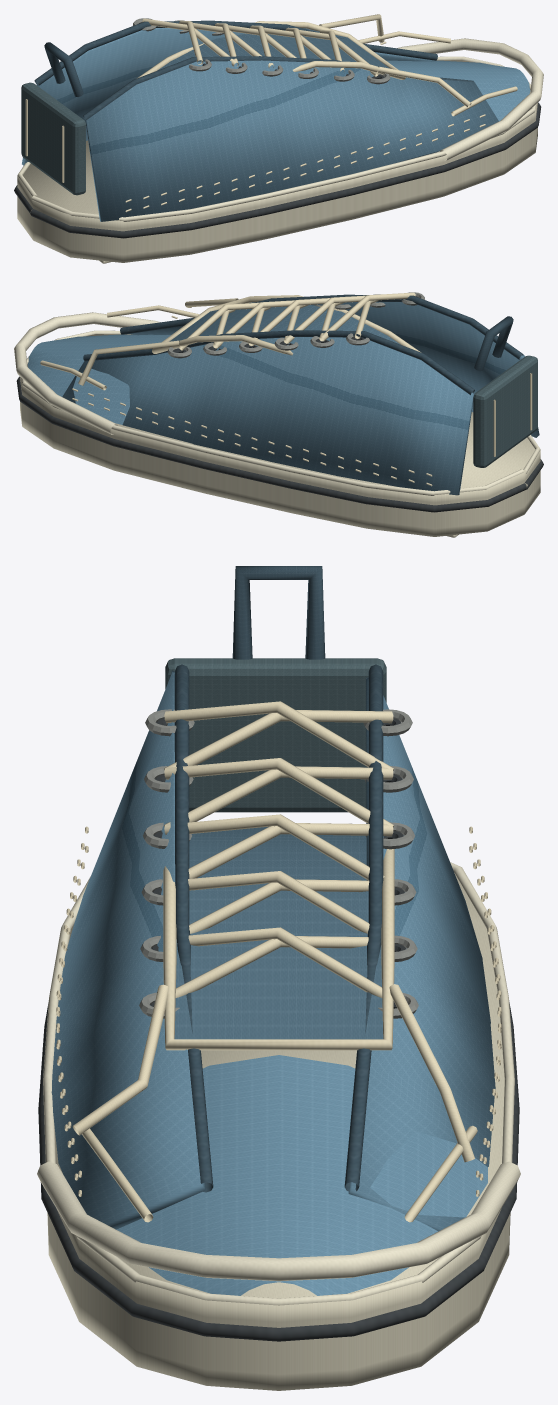
Rendered from canvas_sneaker_v1.glb.
3 renders of one model, top to bottom at view 1: azimuth 30°, elevation 25°; view 2: azimuth 150°, elevation 25°; view 3: azimuth 270°, elevation 25°, orthographic. The views are drawn at different scales.
Parts seen in each view (by area): view 1: Canvas_Main, Rubber_Ivory, Canvas_Lining, Rubber_ToeCap, Canvas_HeelPatch, Cotton_Laces, Rubber_FoxingStripe, Thread_Stitch, Metal_Eyelets; view 2: Canvas_Main, Rubber_Ivory, Canvas_Lining, Rubber_ToeCap, Canvas_HeelPatch, Cotton_Laces, Rubber_FoxingStripe, Thread_Stitch, Metal_Eyelets; view 3: Canvas_Main, Canvas_Lining, Rubber_Ivory, Cotton_Laces, Rubber_ToeCap, Canvas_HeelPatch, Thread_Stitch, Rubber_FoxingStripe, Metal_Eyelets.
Boxes of the visible parts, x1=… form: Canvas_Main: x1=22, y1=28, x2=530, y2=221; Rubber_Ivory: x1=17, y1=60, x2=537, y2=262; Canvas_Lining: x1=34, y1=20, x2=473, y2=119; Rubber_ToeCap: x1=17, y1=38, x2=543, y2=221; Canvas_HeelPatch: x1=21, y1=82, x2=85, y2=195; Cotton_Laces: x1=142, y1=14, x2=471, y2=107; Rubber_FoxingStripe: x1=14, y1=63, x2=541, y2=238; Thread_Stitch: x1=25, y1=21, x2=517, y2=212; Metal_Eyelets: x1=133, y1=18, x2=390, y2=84; Canvas_Main: x1=27, y1=302, x2=539, y2=495; Rubber_Ivory: x1=20, y1=334, x2=540, y2=536; Canvas_Lining: x1=83, y1=294, x2=523, y2=395; Rubber_ToeCap: x1=14, y1=312, x2=540, y2=495; Canvas_HeelPatch: x1=473, y1=355, x2=537, y2=467; Cotton_Laces: x1=78, y1=292, x2=415, y2=385; Rubber_FoxingStripe: x1=16, y1=305, x2=543, y2=512; Thread_Stitch: x1=40, y1=295, x2=532, y2=486; Metal_Eyelets: x1=167, y1=292, x2=424, y2=358; Canvas_Main: x1=51, y1=670, x2=495, y2=1295; Canvas_Lining: x1=174, y1=566, x2=383, y2=1192; Rubber_Ivory: x1=47, y1=873, x2=510, y2=1390; Cotton_Laces: x1=72, y1=701, x2=474, y2=1162; Rubber_ToeCap: x1=37, y1=862, x2=520, y2=1305; Canvas_HeelPatch: x1=165, y1=658, x2=386, y2=812; Thread_Stitch: x1=56, y1=826, x2=501, y2=1222; Rubber_FoxingStripe: x1=38, y1=718, x2=519, y2=1341; Metal_Eyelets: x1=139, y1=709, x2=418, y2=1018.
Size of the model in its own units: 0.3816 by 0.1373 by 0.1599.
10 materials, 10 textured.
